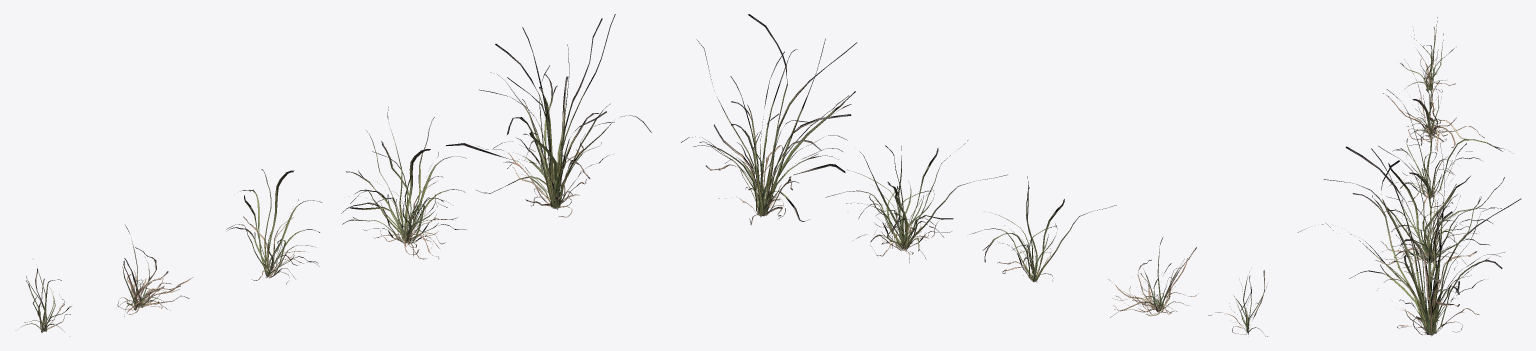
The model's file is herbes_hautes_lod0.glb.
3 renders of one model, left to right at view 1: azimuth 30°, elevation 25°; view 2: azimuth 150°, elevation 25°; view 3: azimuth 270°, elevation 25°, orthographic. The views are drawn at different scales.
Visible parts, largest first — view 1: grass_medium_02_a; view 2: grass_medium_02_a; view 3: grass_medium_02_a.
Part boxes in pixels (bbox=[...]): grass_medium_02_a: bbox=[20, 14, 651, 332]; grass_medium_02_a: bbox=[681, 14, 1267, 336]; grass_medium_02_a: bbox=[1298, 17, 1521, 336].
Size of the model in its own units: 1.31 by 0.4054 by 0.4332.
1 material, 1 textured.
